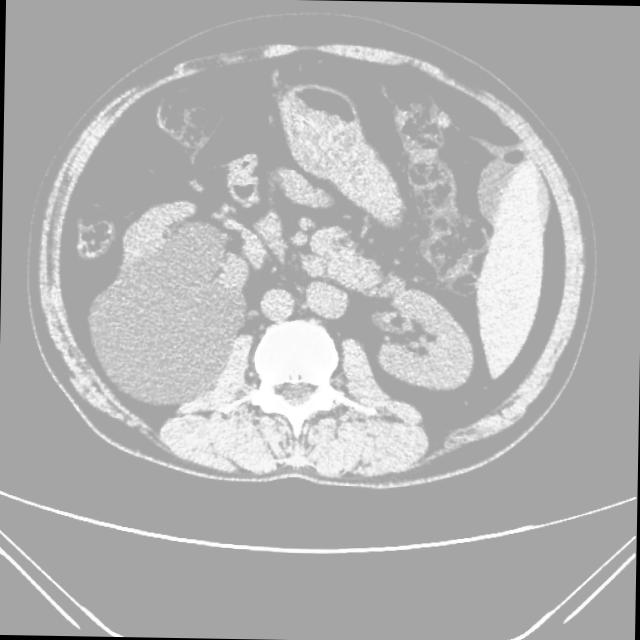cysts: (35, 33, 593, 490)
